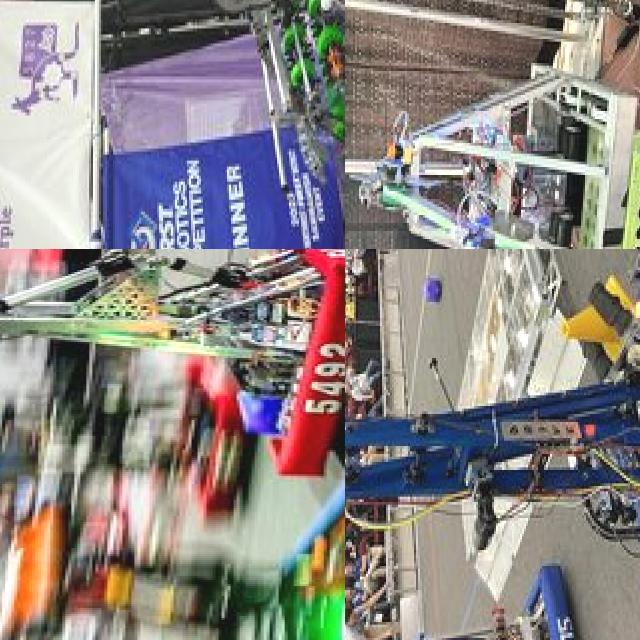FRC-Robots: (345, 249, 640, 590), (0, 249, 345, 471), (345, 0, 640, 249), (182, 0, 345, 244), (410, 543, 578, 640)
